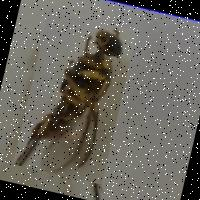Oriental-fruit-fly: (12, 10, 136, 184)
